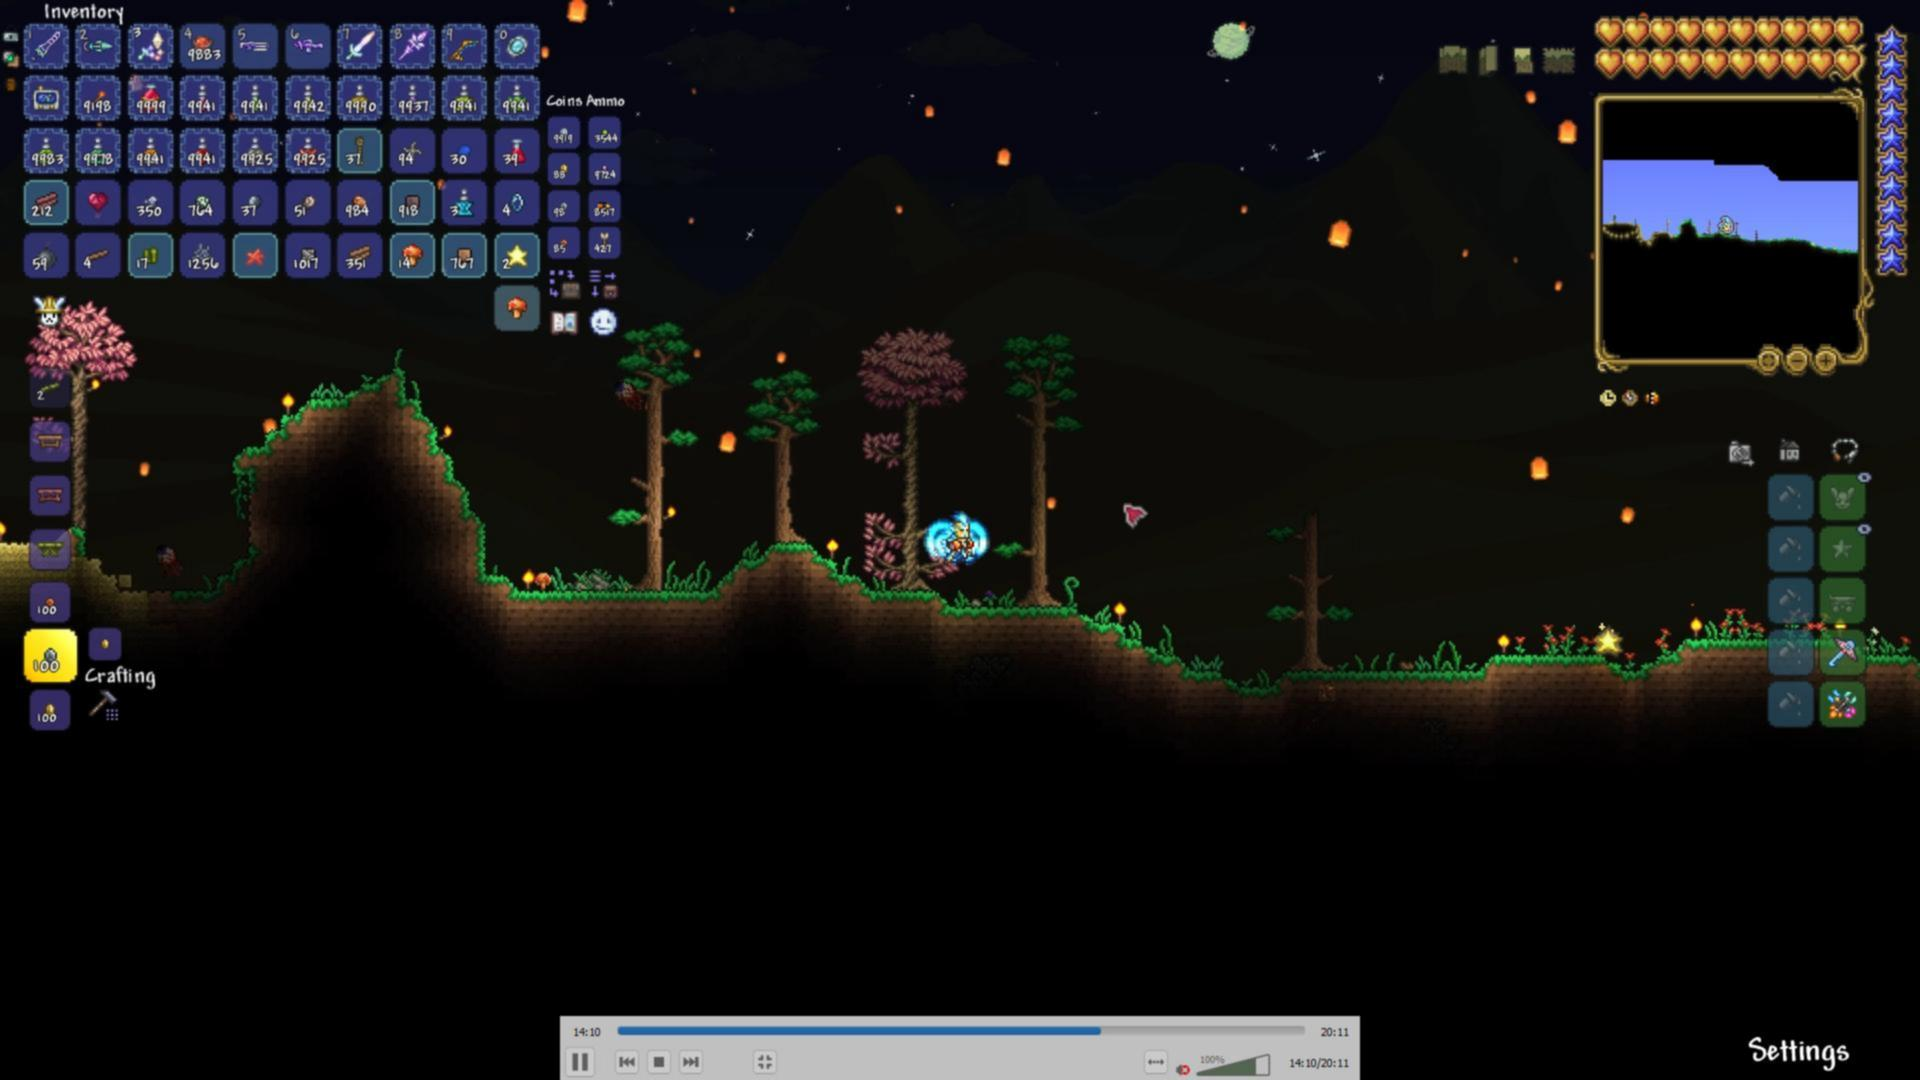mirror: (502, 33, 530, 62)
star: (1590, 618, 1629, 658), (502, 245, 526, 266)
